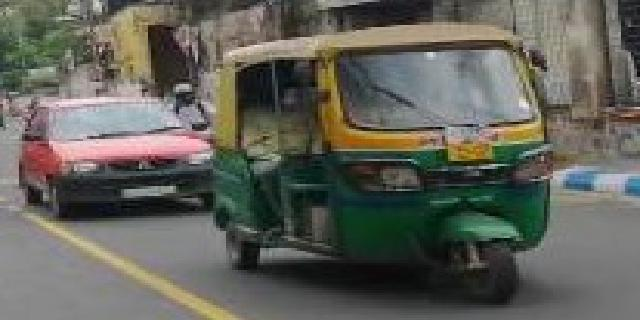Autorickshaw: (212, 20, 559, 307)
Car: (13, 96, 213, 219)
